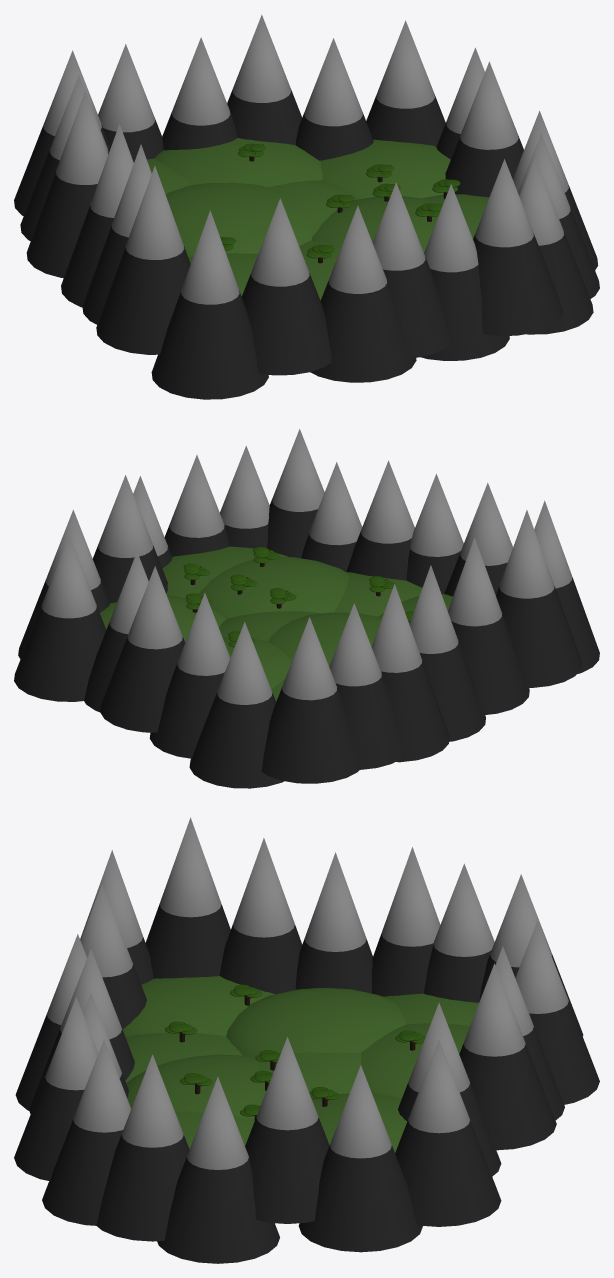
File: terrain.obj
3 views of the same model, one above another, from view 1: azimuth 30°, elevation 25°; view 2: azimuth 150°, elevation 25°; view 3: azimuth 270°, elevation 25° (orthographic). The views are drawn at different scales.
Parts seen in each view (by area): view 1: pasted__pasted__pasted__pMountain1 pasted__pasted__group8 pasted, pasted__pMountain1 group23, pasted__pasted__pMountain1 pasted__group8 group21, pasted__pasted__pMountain1 pasted__group23 group24, pasted__pMountain1 group11, pasted__pasted__pasted__pasted__pMountain1 pasted__pasted__paste, pasted__pasted__pasted__pMountain1 pasted__pasted__group10 paste, pMountain1, pasted__pMountain1 group40, pasted__pHill group4, pasted__pasted__pMountain1 pasted__group10 group15, pasted__pMountain1 group9 (+16 smaller); view 2: pasted__pasted__pasted__pMountain1 pasted__pasted__group10 paste, pasted__pasted__pasted__pasted__pMountain1 pasted__pasted__paste, pasted__pasted__pasted__pMountain1 pasted__pasted__group8 pasted, pasted__pasted__pMountain1 pasted__group10 group17, pasted__pasted__pMountain1 pasted__group8 group21, pasted__pasted__pMountain1 pasted__group10 group15, pasted__pMountain1 group8, pasted__pMountain1 group10, pasted__pHill group1, pasted__pasted__pMountain1 pasted__group8 group19, pasted__pMountain1 group40, pasted__pMountain1 group11 (+14 smaller); view 3: pasted__pasted__pasted__pMountain1 pasted__pasted__group10 paste, pasted__pasted__pMountain1 pasted__group9 group14, pasted__pasted__pMountain1 pasted__group9 group13, pasted__pMountain1 group9, pasted__pasted__pMountain1 pasted__group11 group12, pasted__pasted__pMountain1 pasted__group10 group15, pasted__pHill group4, pasted__pasted__pasted__pMountain1 pasted__pasted__group8 pasted, pasted__pasted__pasted__pMountain1 pasted__pasted__group11 paste, pasted__pasted__pMountain1 pasted__group8 group21, pasted__pMountain1 group8, pasted__pasted__pMountain1 pasted__group10 group17 (+16 smaller).
Part boxes in pixels (<box>): pasted__pasted__pasted__pMountain1 pasted__pasted__group8 pasted: <box>26,90,268,399</box>; pasted__pMountain1 group23: <box>310,205,416,382</box>; pasted__pasted__pMountain1 pasted__group8 group21: <box>96,166,190,354</box>; pasted__pasted__pMountain1 pasted__group23 group24: <box>241,198,331,375</box>; pasted__pMountain1 group11: <box>473,159,562,335</box>; pasted__pasted__pasted__pasted__pMountain1 pasted__pasted__paste: <box>14,38,373,215</box>; pasted__pasted__pasted__pMountain1 pasted__pasted__group10 paste: <box>20,20,445,240</box>; pMountain1: <box>421,184,509,360</box>; pasted__pMountain1 group40: <box>372,182,450,358</box>; pasted__pHill group4: <box>165,182,312,256</box>; pasted__pasted__pMountain1 pasted__group10 group15: <box>227,14,302,145</box>; pasted__pMountain1 group9: <box>445,61,523,197</box>; pasted__pasted__pasted__pMountain1 pasted__pasted__group10 paste: <box>14,535,404,769</box>; pasted__pasted__pasted__pasted__pMountain1 pasted__pasted__paste: <box>84,552,359,783</box>; pasted__pasted__pasted__pMountain1 pasted__pasted__group8 pasted: <box>371,500,599,762</box>; pasted__pasted__pMountain1 pasted__group10 group17: <box>189,622,283,788</box>; pasted__pasted__pMountain1 pasted__group8 group21: <box>496,510,581,687</box>; pasted__pasted__pMountain1 pasted__group10 group15: <box>100,566,184,732</box>; pasted__pMountain1 group8: <box>448,537,529,715</box>; pasted__pMountain1 group10: <box>149,593,230,758</box>; pasted__pHill group1: <box>198,556,349,619</box>; pasted__pasted__pMountain1 pasted__group8 group19: <box>409,565,485,741</box>; pasted__pMountain1 group40: <box>346,460,414,580</box>; pasted__pMountain1 group11: <box>267,429,324,558</box>; pasted__pasted__pasted__pMountain1 pasted__pasted__group10 paste: <box>395,863,501,1226</box>; pasted__pasted__pMountain1 pasted__group9 group14: <box>298,1065,422,1252</box>; pasted__pasted__pMountain1 pasted__group9 group13: <box>157,1077,279,1263</box>; pasted__pMountain1 group9: <box>245,1037,329,1223</box>; pasted__pasted__pMountain1 pasted__group11 group12: <box>96,1054,189,1241</box>; pasted__pasted__pMountain1 pasted__group10 group15: <box>459,963,556,1150</box>; pasted__pHill group4: <box>226,987,405,1056</box>; pasted__pasted__pasted__pMountain1 pasted__pasted__group8 pasted: <box>80,847,440,996</box>; pasted__pasted__pasted__pMountain1 pasted__pasted__group11 paste: <box>42,1039,131,1225</box>; pasted__pasted__pMountain1 pasted__group8 group21: <box>145,817,230,978</box>; pasted__pMountain1 group8: <box>219,838,302,994</box>; pasted__pasted__pMountain1 pasted__group10 group17: <box>515,921,599,1104</box>.
Bounding box in the file's own units: 1724 × 669 × 1647.
